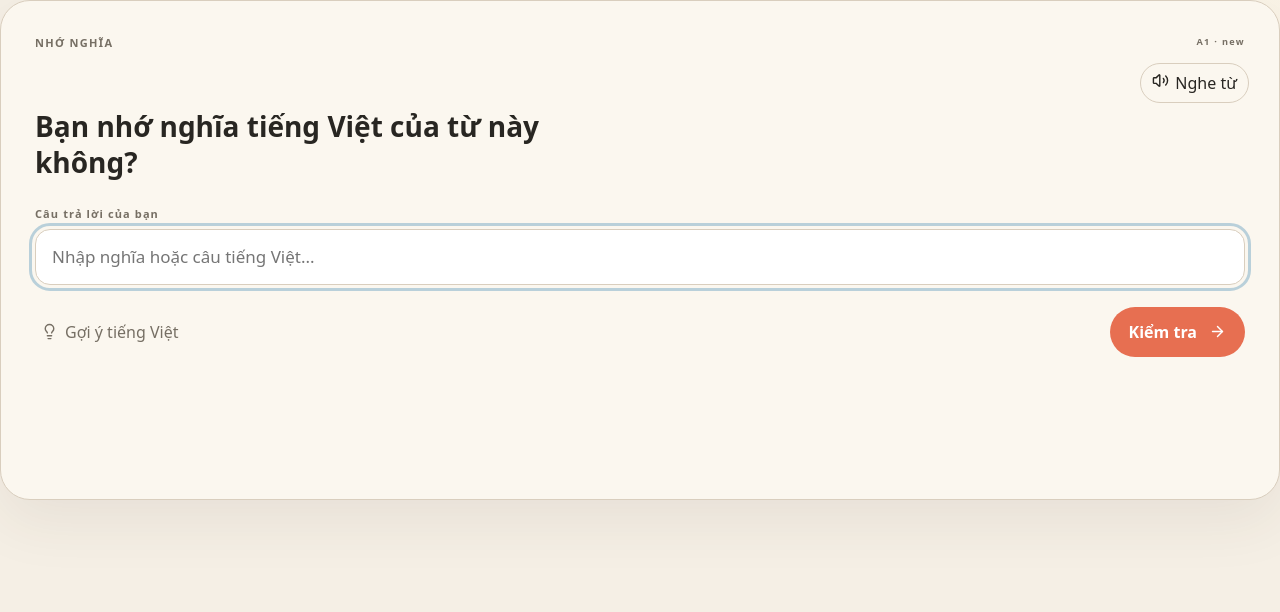
Scenario: learning cards › shows retry feedback when answer is different
In the field with placeholder "Nhập nghĩa hoặc câu tiếng Việt...": {"x": 640, "y": 257} [35,229,1245,285], type "con chó"
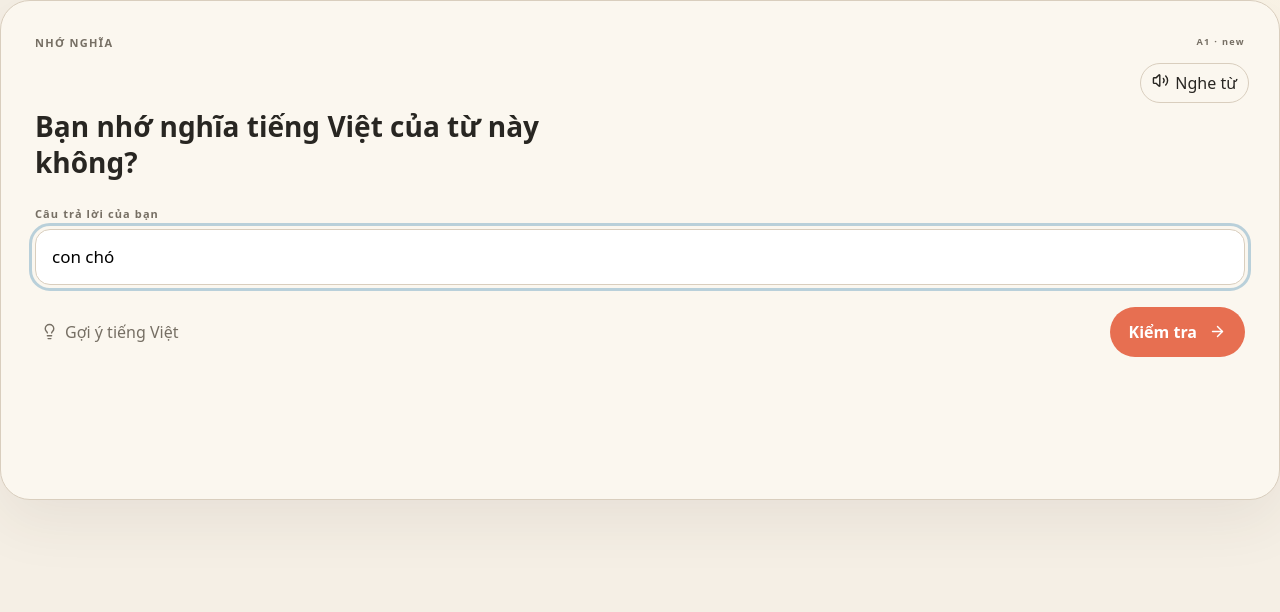
Click the button "Kiểm tra": {"x": 1177, "y": 332} [1110,307,1245,357]
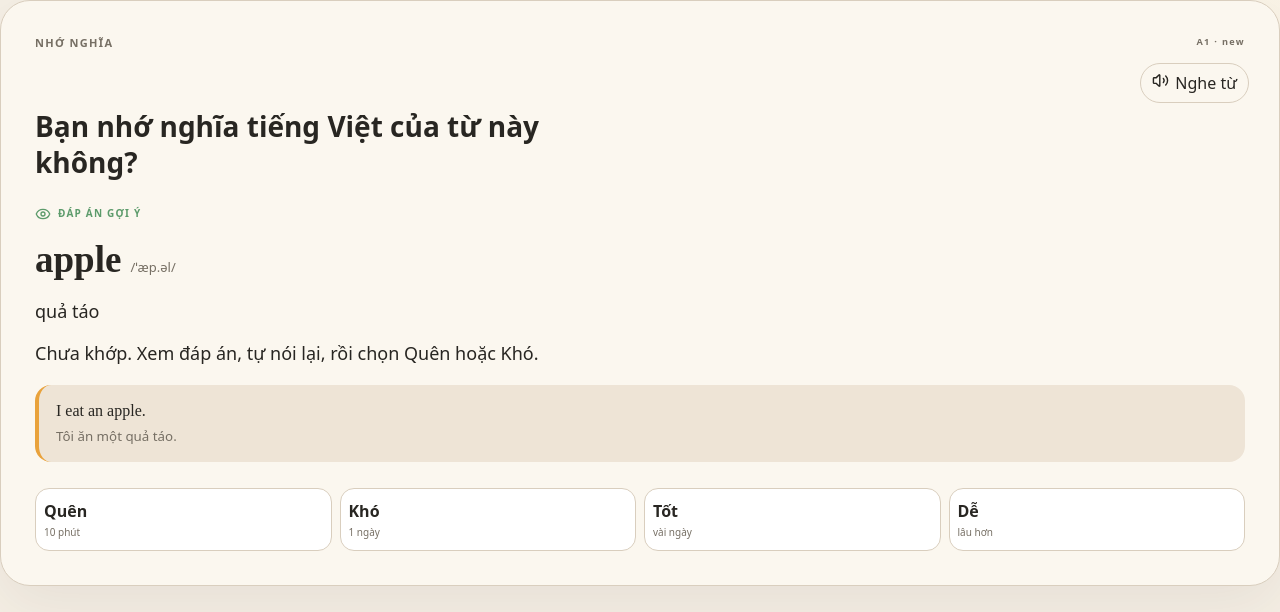
Check: the text "Chưa khớp. Xem đáp án, tự nói lại, rồi chọn Quên hoặc Khó." is shown, box [35,341,538,365]
